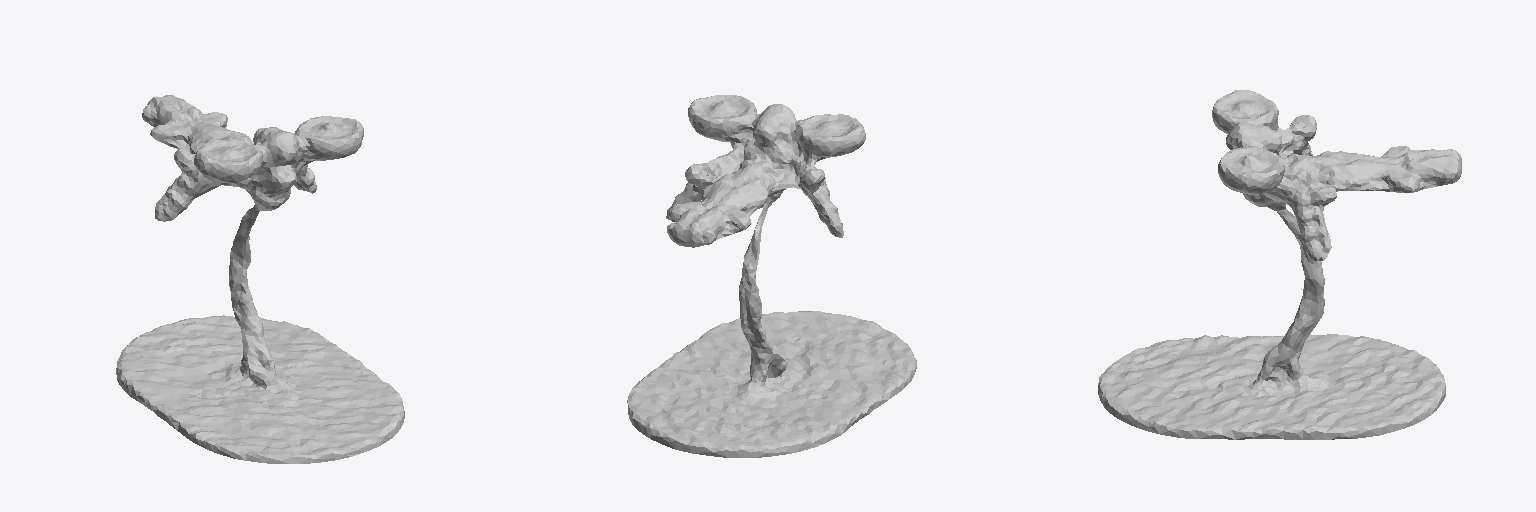
The model's file is Patriot_m.obj.
The picture shows the model from 3 angles: view 1: azimuth 30°, elevation 25°; view 2: azimuth 150°, elevation 25°; view 3: azimuth 270°, elevation 25°; orthographic projection.
Parts seen in each view (by area): view 1: 1_May_2023.001_1_May_2023.004; view 2: 1_May_2023.001_1_May_2023.004; view 3: 1_May_2023.001_1_May_2023.004.
Boxes of the visible parts, x1=… form: 1_May_2023.001_1_May_2023.004: x1=116, y1=95, x2=404, y2=463; 1_May_2023.001_1_May_2023.004: x1=627, y1=95, x2=916, y2=457; 1_May_2023.001_1_May_2023.004: x1=1098, y1=90, x2=1461, y2=439.
Size of the model in its own units: 1.22 by 1.57 by 1.91.